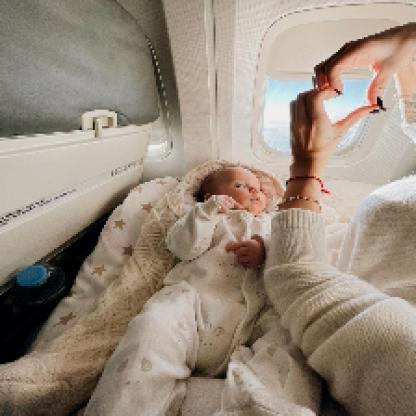child: (83, 166, 326, 415)
